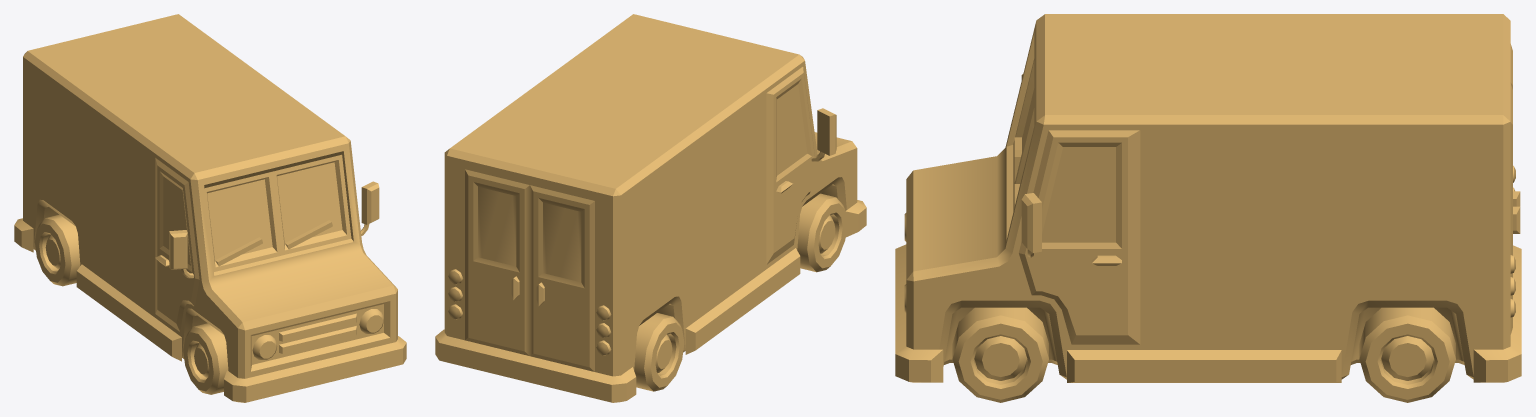
File: kiapv5.glb
3 renders of one model, left to right at view 1: azimuth 30°, elevation 25°; view 2: azimuth 150°, elevation 25°; view 3: azimuth 270°, elevation 25°, orthographic. The views are drawn at different scales.
Visible parts, largest first — view 1: kiapv5; view 2: kiapv5; view 3: kiapv5.
Part boxes in pixels (x1,y1,x2,y2): kiapv5: [14, 14, 406, 402]; kiapv5: [435, 14, 866, 402]; kiapv5: [895, 14, 1521, 402].
Bounding box in the file's own units: 2.3 × 2.18 × 4.38.
